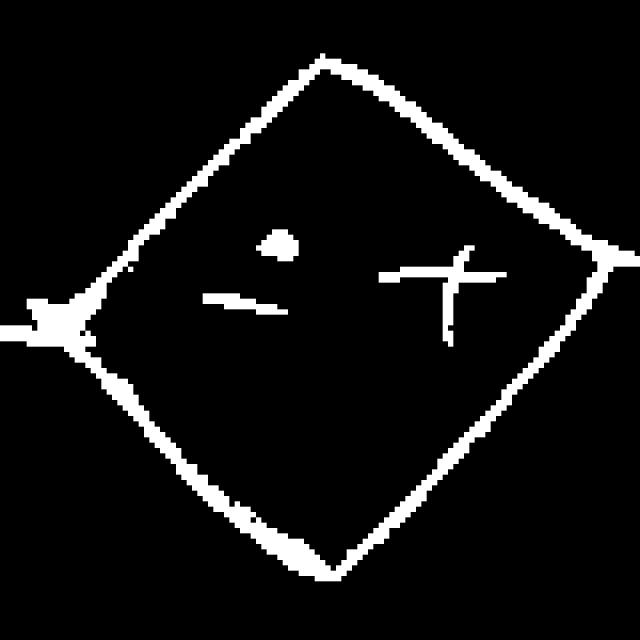dependant_voltage: (54, 52, 610, 596)
